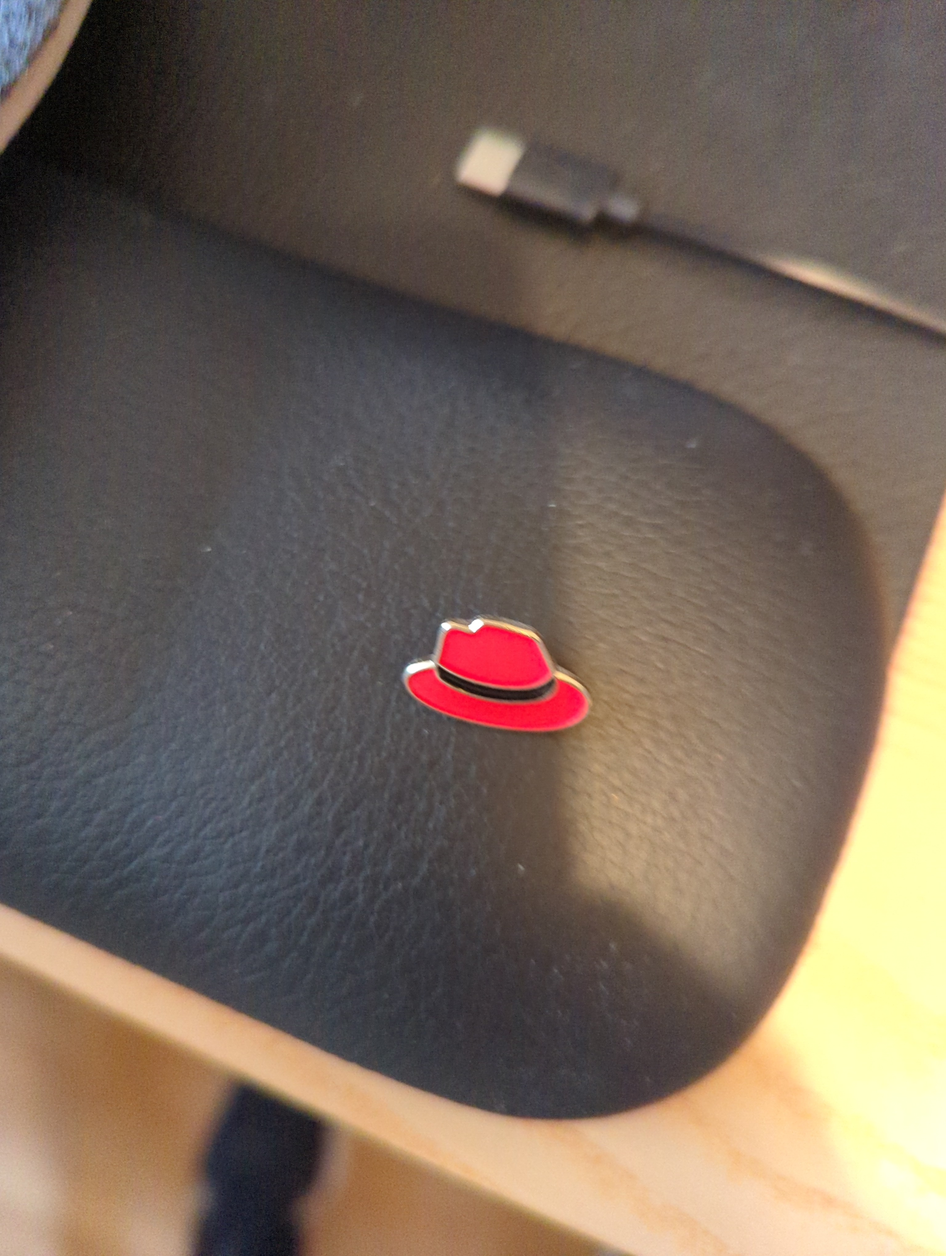Red-Hat: (330, 546, 669, 825)
